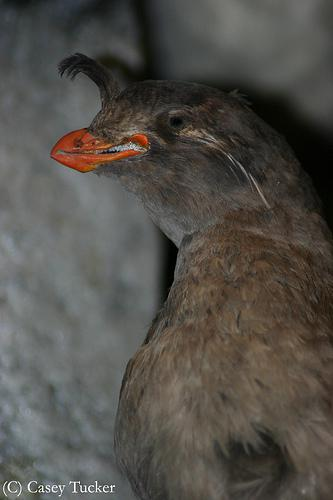005.Crested_Auklet: (50, 44, 331, 500)
